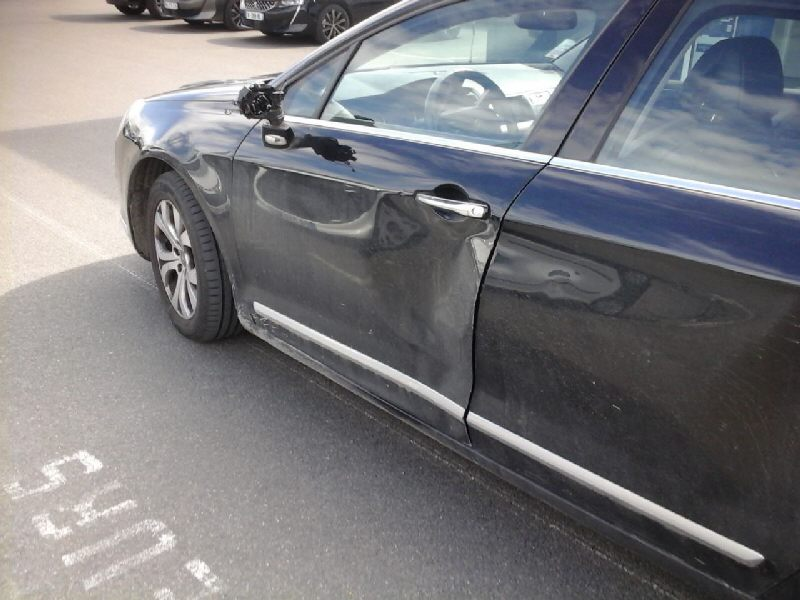front door: (206, 3, 658, 420)
